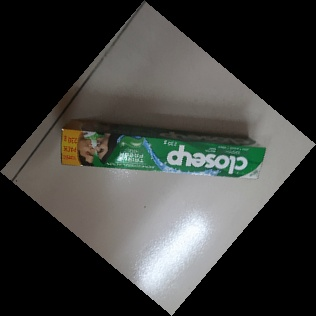CloseUp Xanh: (58, 118, 266, 185)
